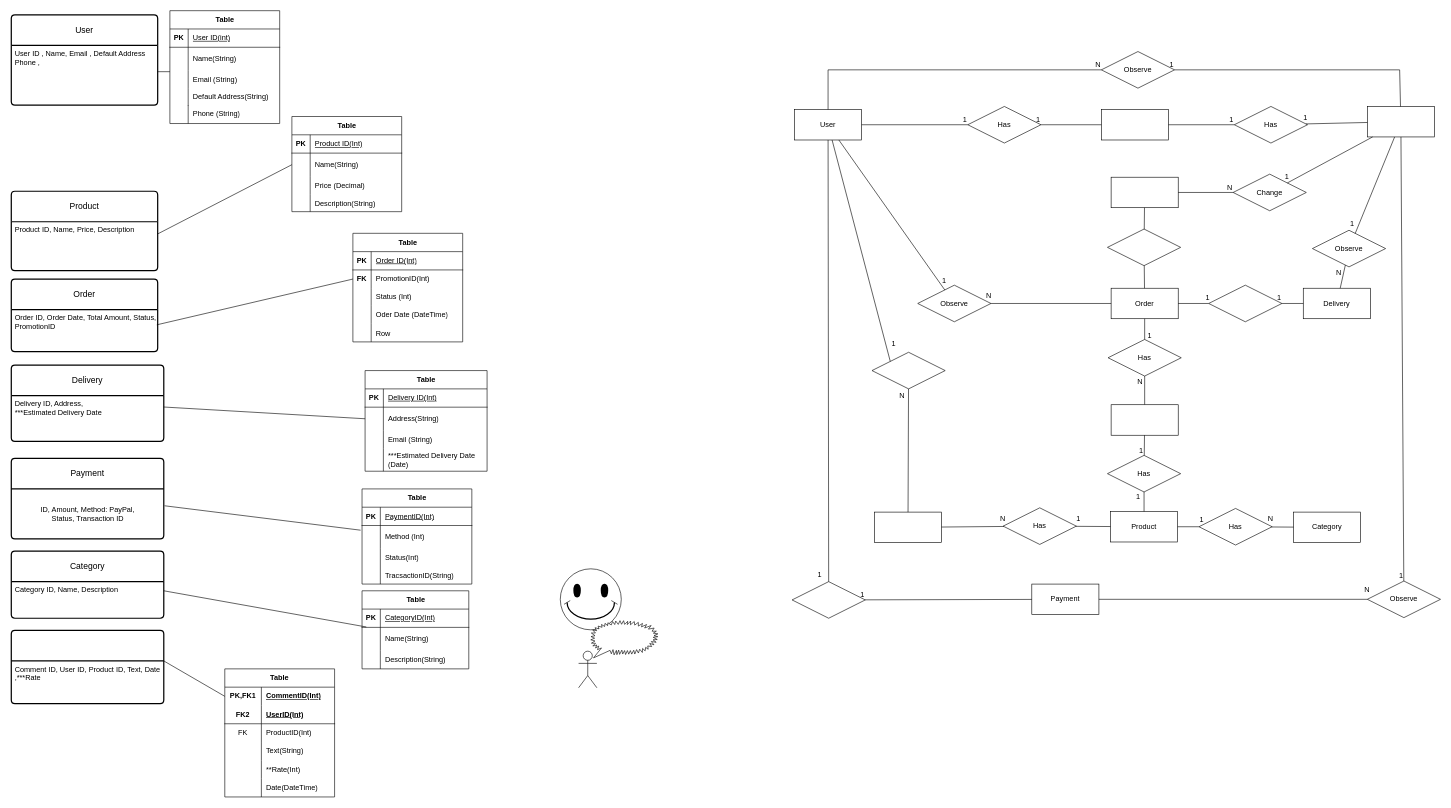
Some shapes in this 1451 by 808 pixel diagram are drawn without their labels. Each missing label, with the box of its shape:
Account: (1101, 109, 1168, 140)
Actor: (578, 651, 597, 688)
Admin: (1367, 106, 1434, 137)
advance: (1208, 285, 1282, 322)
Apply: (1107, 228, 1181, 266)
Comment: (874, 511, 942, 543)
Comments: (10, 630, 164, 704)
lua nay chay: (590, 620, 658, 658)
Order Detail: (1111, 404, 1178, 435)
Pay: (791, 581, 865, 618)
Promotion: (1111, 177, 1178, 208)
Rate: (871, 352, 945, 389)
